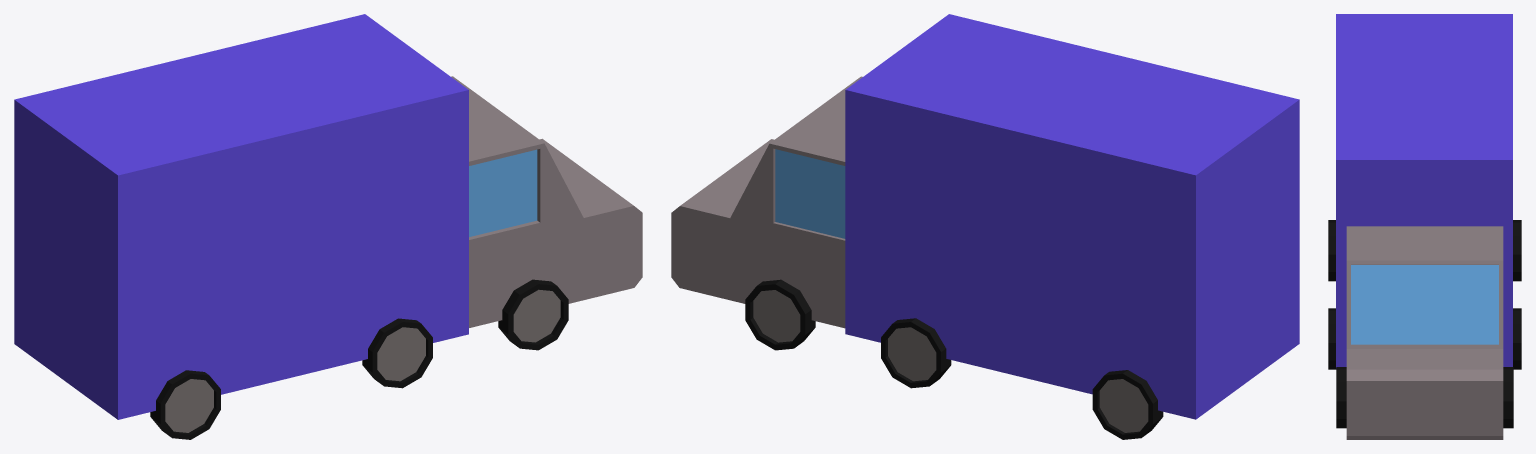
File: truck.fbx
3 renders of one model, left to right at view 1: azimuth 30°, elevation 25°; view 2: azimuth 150°, elevation 25°; view 3: azimuth 270°, elevation 25°, orthographic. The views are drawn at different scales.
Visible parts, largest first — view 1: Cube, Cylinder.001, Cylinder; view 2: Cube, Cylinder.001, Cylinder; view 3: Cube, Cylinder.001, Cylinder.
Boxes of the visible parts, x1=… form: Cube: x1=14, y1=14, x2=642, y2=419; Cylinder.001: x1=150, y1=318, x2=432, y2=439; Cylinder: x1=498, y1=279, x2=568, y2=350; Cube: x1=671, y1=14, x2=1299, y2=419; Cylinder.001: x1=881, y1=318, x2=1163, y2=439; Cylinder: x1=745, y1=279, x2=815, y2=350; Cube: x1=1336, y1=14, x2=1512, y2=439; Cylinder.001: x1=1328, y1=220, x2=1521, y2=369; Cylinder: x1=1336, y1=367, x2=1513, y2=428.
Bounding box in the file's own units: 669 × 334 × 248.
